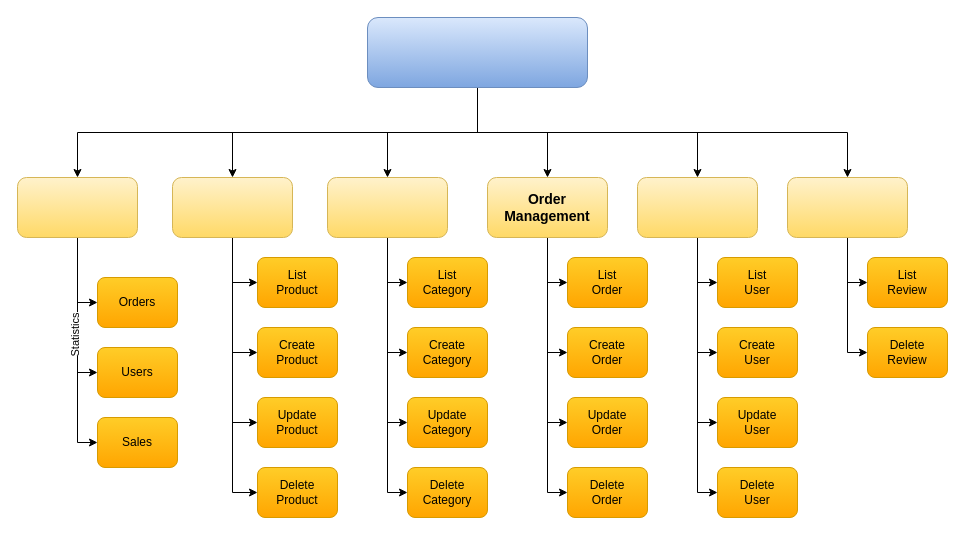
This 965x535 diagram has some shape labels left out. The shapes that lost their labels are listed below. From the top down, each one's box as (x1, y1, x2, y2) in pixels, then its label:
(366, 16, 588, 88): Couture Closet
(16, 176, 138, 238): Dashboard
(172, 176, 292, 238): Product Management
(326, 176, 448, 238): Category Management
(636, 176, 758, 238): User Management
(786, 176, 908, 238): Review Management
